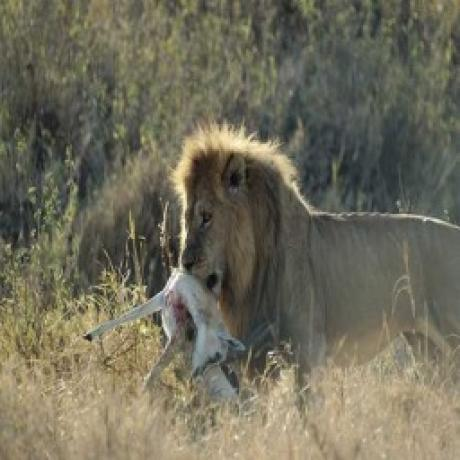Lion: (177, 127, 460, 392)
